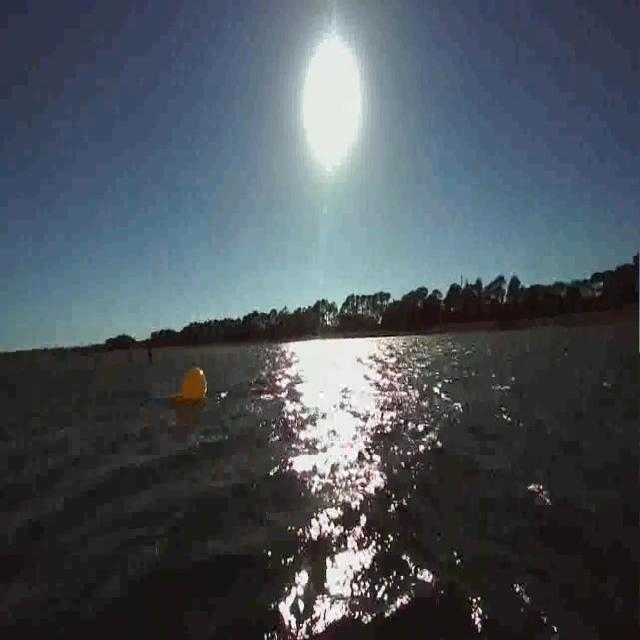yellow-buoy: (182, 366, 210, 404)
